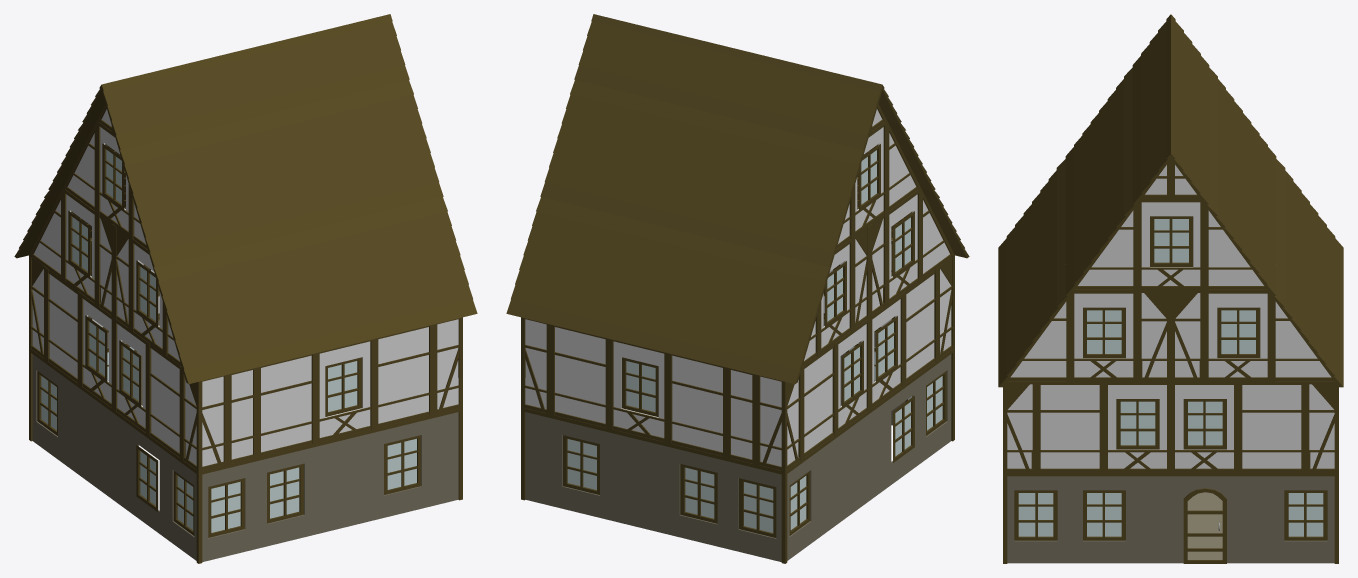
The model's file is House1.fbx.
3 renders of one model, left to right at view 1: azimuth 30°, elevation 25°; view 2: azimuth 150°, elevation 25°; view 3: azimuth 270°, elevation 25°, orthographic.
Visible parts, largest first — view 1: RoofTile_3M151, RoofTile_3M152, RoofTile_3M143, RoofTile_3M135, RoofTile_3M149, L_Floor1_Wall_TwoWindows7, Bottom_Wall14, RoofTile_3M120, RoofTile_3M150, Bottom_Wall13, Wall_Plaster16, Wall_Plaster15 (+37 smaller); view 2: RoofTile_3M155, RoofTile_3M153, RoofTile_3M125, RoofTile_3M133, RoofTile_3M154, L_Floor1_Wall_TwoWindows5, Bottom_Wall14, RoofTile_3M141, RoofTile_3M156, Bottom_Wall10, Wall_Plaster12, Wall_Plaster14 (+36 smaller); view 3: Wall_TwoWindows17, L_Floor1_Wall_TwoWindows6, Wall_Plaster13, Wall_Plaster17, Door8, RoofTile_3M155, RoofTile_3M151, RoofTile_3M152, RoofTile_3M153, OneWindow23, OneWindow25, OneWindow22 (+35 smaller).
Boxes of the visible parts, x1,y1,x2,y2 form: RoofTile_3M151: (195, 214, 406, 373); RoofTile_3M152: (162, 97, 372, 256); RoofTile_3M143: (143, 31, 338, 139); RoofTile_3M135: (338, 80, 443, 213); RoofTile_3M149: (372, 197, 477, 330); L_Floor1_Wall_TwoWindows7: (198, 443, 315, 563); Bottom_Wall14: (63, 372, 132, 513); RoofTile_3M120: (118, 140, 196, 266); RoofTile_3M150: (152, 257, 229, 383); Bottom_Wall13: (315, 429, 374, 534); Wall_Plaster16: (375, 324, 433, 428); Wall_Plaster15: (257, 353, 315, 457); RoofTile_3M155: (577, 214, 788, 373); RoofTile_3M153: (611, 97, 821, 256); RoofTile_3M125: (645, 31, 840, 139); RoofTile_3M133: (540, 80, 645, 213); RoofTile_3M154: (506, 197, 611, 330); L_Floor1_Wall_TwoWindows5: (668, 443, 785, 563); Bottom_Wall14: (818, 397, 886, 538); RoofTile_3M141: (787, 140, 865, 266); RoofTile_3M156: (754, 257, 831, 383); Bottom_Wall10: (609, 429, 668, 534); Wall_Plaster12: (550, 324, 608, 428); Wall_Plaster14: (668, 353, 726, 457); Wall_TwoWindows17: (1103, 381, 1238, 472); L_Floor1_Wall_TwoWindows6: (1003, 472, 1137, 563); Wall_Plaster13: (1036, 381, 1103, 472); Wall_Plaster17: (1238, 381, 1305, 472); Door8: (1171, 472, 1238, 563); RoofTile_3M155: (1276, 179, 1343, 352); RoofTile_3M151: (998, 179, 1065, 352); RoofTile_3M152: (1065, 88, 1132, 260); RoofTile_3M153: (1209, 88, 1276, 260); OneWindow23: (1204, 289, 1271, 381); OneWindow25: (1271, 472, 1338, 563); OneWindow22: (1070, 289, 1137, 381).
Bounding box in the file's own units: 9.84 × 13.68 × 10.28.
